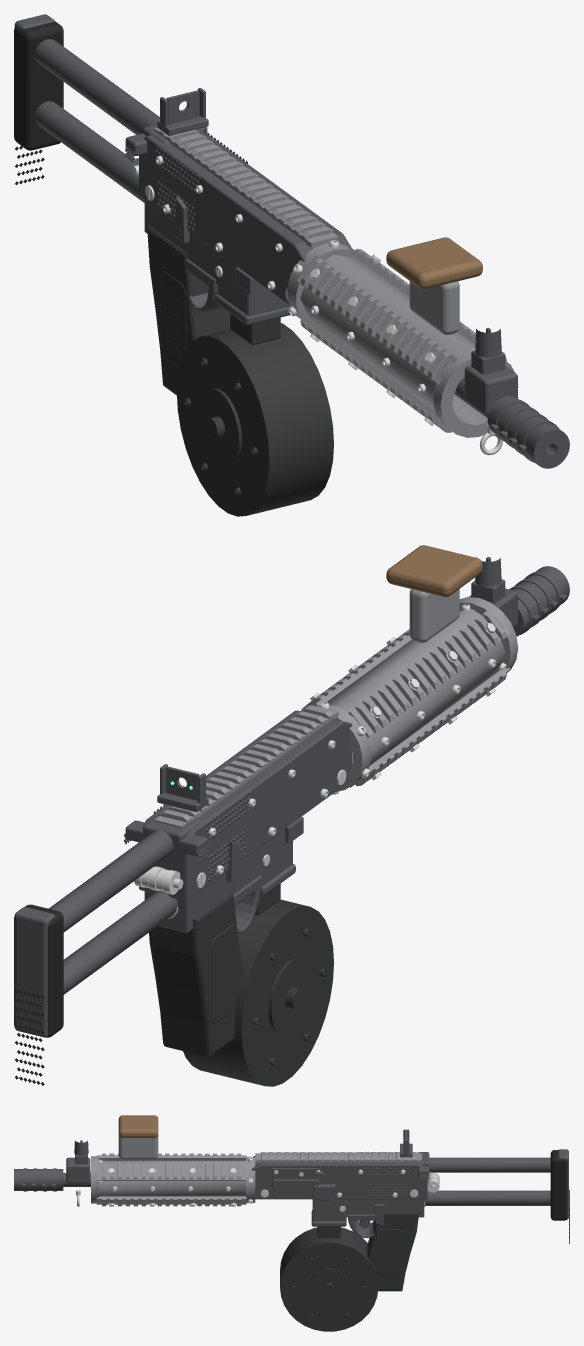
File: galil.glb
The picture shows the model from 3 angles, top to bottom: view 1: azimuth 30°, elevation 25°; view 2: azimuth 150°, elevation 25°; view 3: azimuth 270°, elevation 25°; orthographic projection. The views are drawn at different scales.
Parts seen in each view (by area): view 1: heavy-tri-rail-carbine, magazine, stock-fold/gunmetal, stock-fold/rubber, charge; view 2: heavy-tri-rail-carbine, magazine, stock-fold/gunmetal, stock-fold/rubber, charge; view 3: heavy-tri-rail-carbine, magazine, stock-fold/gunmetal, stock-fold/rubber, charge.
Boxes of the visible parts, box(x1,y1,x2,y2) form: heavy-tri-rail-carbine: box(132, 88, 569, 468); magazine: box(176, 313, 333, 516); stock-fold/gunmetal: box(14, 14, 159, 202); stock-fold/rubber: box(14, 21, 63, 185); charge: box(125, 124, 207, 162); heavy-tri-rail-carbine: box(134, 545, 569, 1056); magazine: box(183, 883, 333, 1086); stock-fold/gunmetal: box(14, 830, 177, 1037); stock-fold/rubber: box(14, 904, 63, 1085); charge: box(124, 814, 209, 862); heavy-tri-rail-carbine: box(14, 1115, 439, 1291); magazine: box(280, 1226, 378, 1331); stock-fold/gunmetal: box(424, 1149, 568, 1219); stock-fold/rubber: box(550, 1150, 569, 1244); charge: box(406, 1152, 429, 1180).
Bounding box in the file's own units: 0.0672 × 0.2791 × 0.7003.
